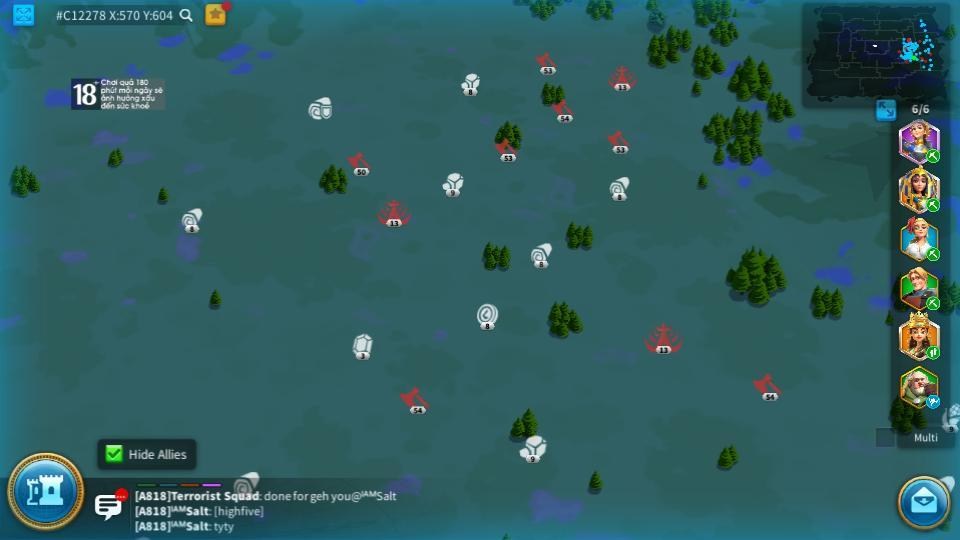gem-z-out: (351, 334, 373, 359)
march_farming: (924, 197, 939, 212)
march_idle: (925, 395, 942, 407)
march_marching: (925, 347, 941, 359), (925, 150, 941, 162), (926, 297, 941, 308)
